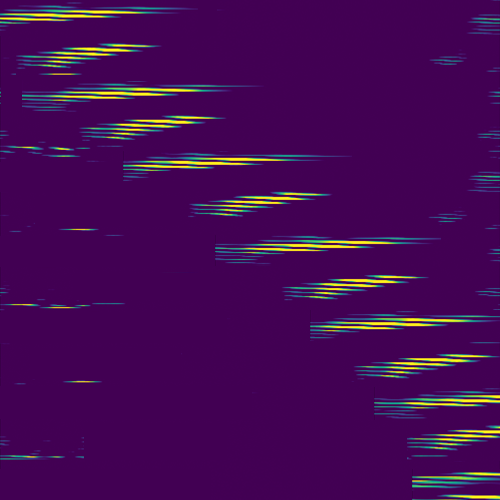semblance: (19, 41, 156, 78), (360, 351, 498, 382), (191, 189, 323, 219), (1, 4, 163, 28), (300, 271, 425, 302), (86, 113, 219, 142), (38, 82, 206, 104), (232, 238, 402, 258), (129, 155, 290, 174), (319, 316, 475, 334), (409, 422, 500, 451), (398, 393, 500, 411), (409, 468, 500, 482), (435, 491, 500, 500)
